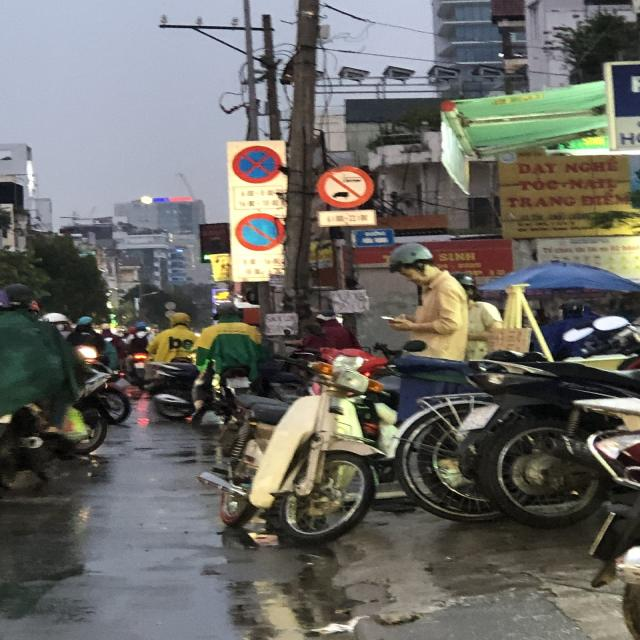Bien bao cam dung xe va do xe: (228, 141, 286, 184)
Bien bao cam xe oto khach va xe oto tai: (314, 162, 376, 212)
